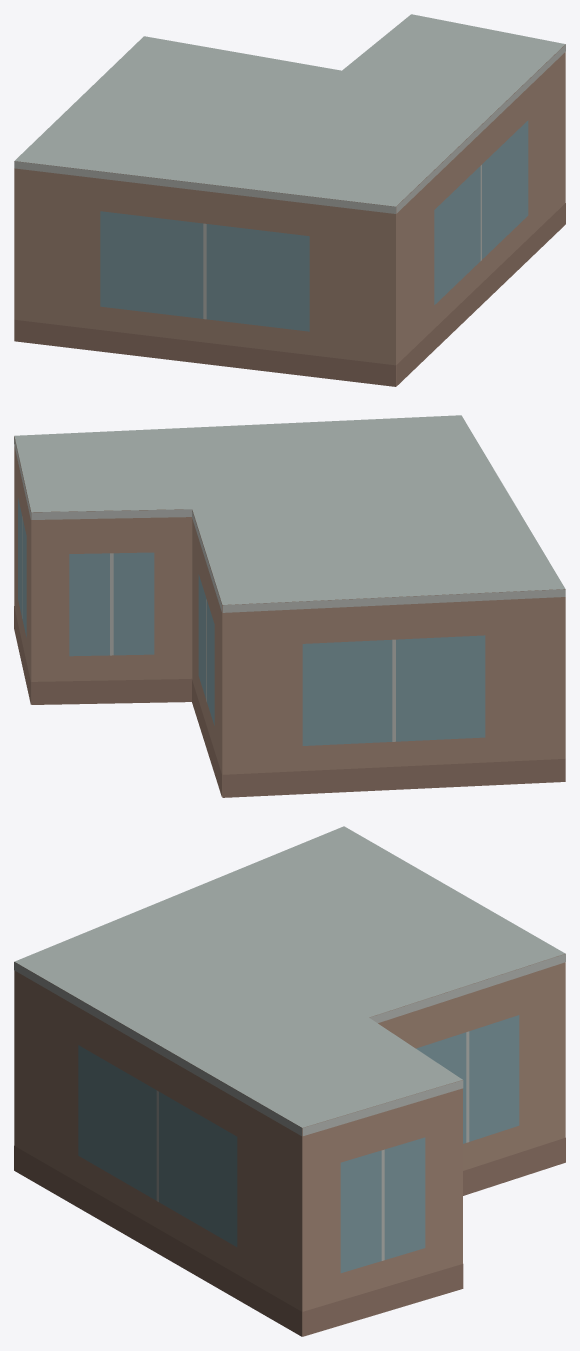
File: survey-upis-32465141.glb
3 views of the same model, one above another, from view 1: azimuth 30°, elevation 25°; view 2: azimuth 150°, elevation 25°; view 3: azimuth 270°, elevation 25° (orthographic). The views are drawn at different scales.
Visible parts, largest first — view 1: survey-upis-32465141.tmp; view 2: survey-upis-32465141.tmp; view 3: survey-upis-32465141.tmp.
Boxes of the visible parts, x1,y1,x2,y2 form: survey-upis-32465141.tmp: [14, 14, 565, 386]; survey-upis-32465141.tmp: [14, 415, 565, 797]; survey-upis-32465141.tmp: [14, 826, 565, 1336].
Bounding box in the file's own units: 9.46 × 3.05 × 7.31.
